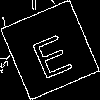E: (25, 25, 75, 81)
